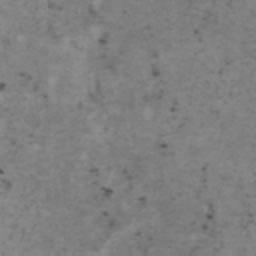Oxide scale of temperature system: (18, 0, 215, 252), (2, 175, 41, 191), (9, 138, 23, 149), (43, 235, 54, 249), (240, 220, 255, 230), (137, 243, 148, 256), (202, 10, 213, 22), (2, 37, 12, 48), (224, 56, 233, 66)
